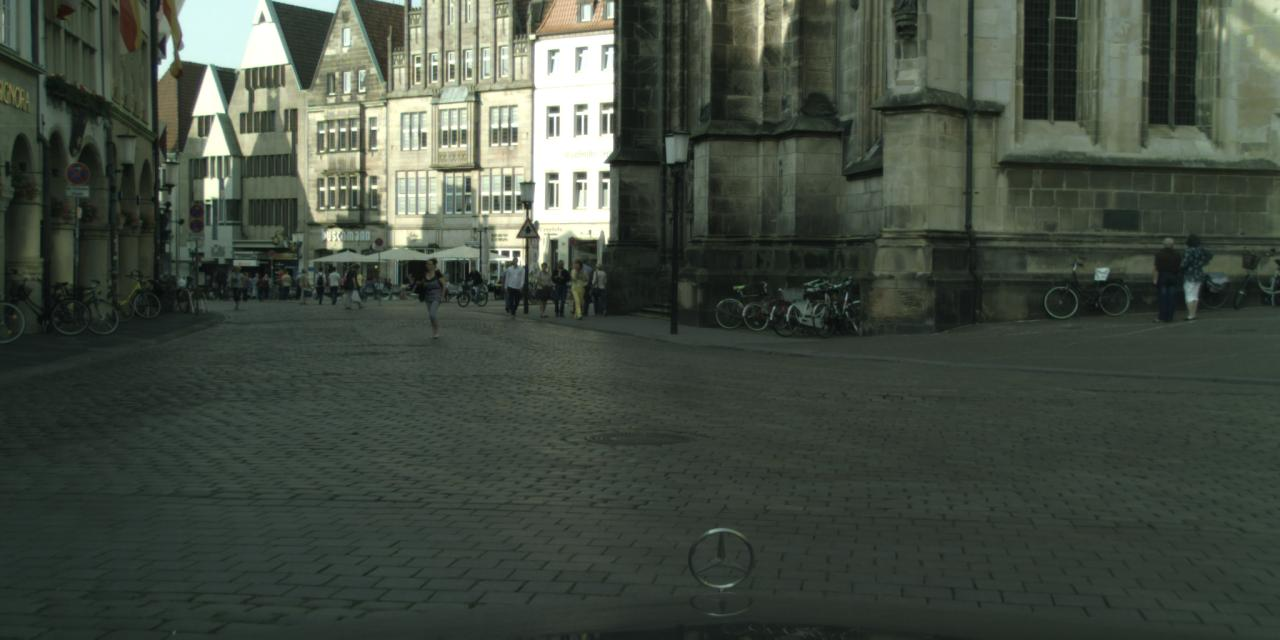ped: (1173, 233, 1208, 319), (1148, 237, 1183, 321), (417, 258, 448, 336), (502, 256, 526, 315), (566, 260, 590, 318), (569, 258, 592, 314), (548, 258, 570, 316), (532, 262, 554, 316), (588, 262, 610, 314), (500, 261, 520, 311), (228, 265, 246, 309), (347, 262, 364, 308), (312, 266, 328, 304), (325, 266, 341, 304), (296, 268, 311, 304), (348, 268, 361, 300), (467, 265, 479, 298), (274, 267, 286, 299), (239, 271, 250, 301), (295, 271, 306, 299), (255, 273, 266, 300), (280, 270, 290, 299), (250, 272, 260, 298), (260, 273, 270, 299), (216, 268, 226, 294), (178, 275, 187, 297), (364, 278, 378, 287), (382, 277, 392, 287)
